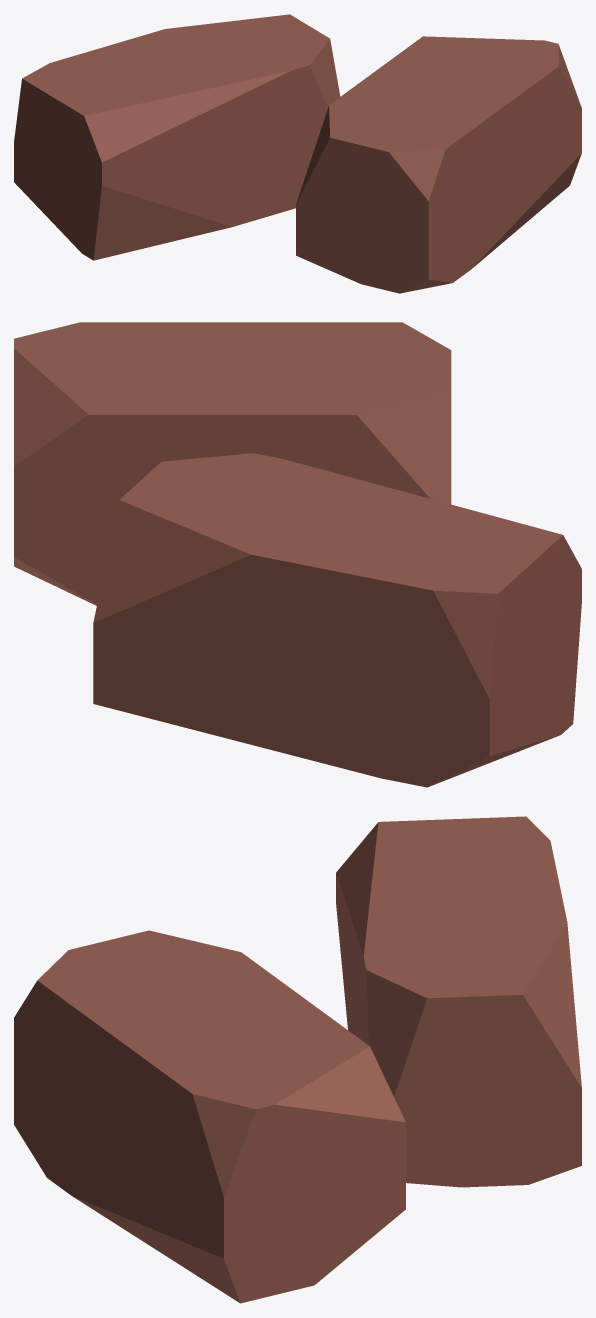
The model's file is Brick_B_08.FBX.
3 views of the same model, one above another, from view 1: azimuth 30°, elevation 25°; view 2: azimuth 150°, elevation 25°; view 3: azimuth 270°, elevation 25° (orthographic). The views are drawn at different scales.
Parts seen in each view (by area): view 1: Brick_B_08; view 2: Brick_B_08; view 3: Brick_B_08.
Boxes of the visible parts, bbox=[...] form: Brick_B_08: bbox=[14, 14, 581, 293]; Brick_B_08: bbox=[14, 322, 581, 787]; Brick_B_08: bbox=[14, 816, 581, 1303].
Bounding box in the file's own units: 1.93 × 0.5673 × 1.53.
